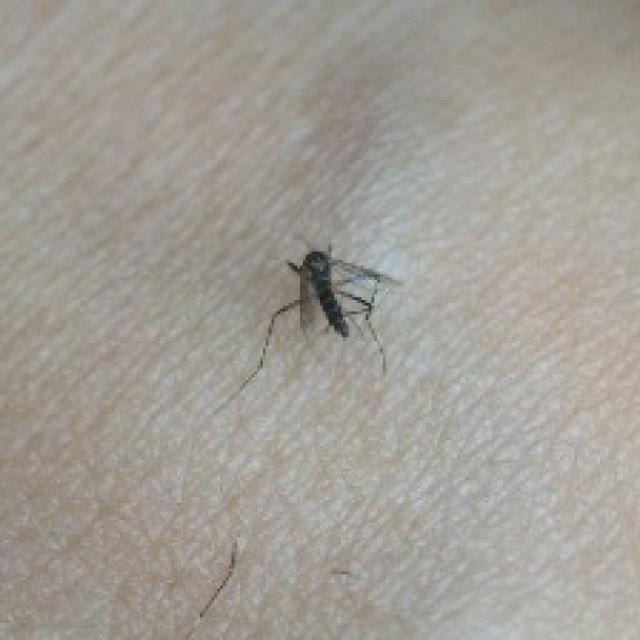aedes: (209, 240, 400, 417)
